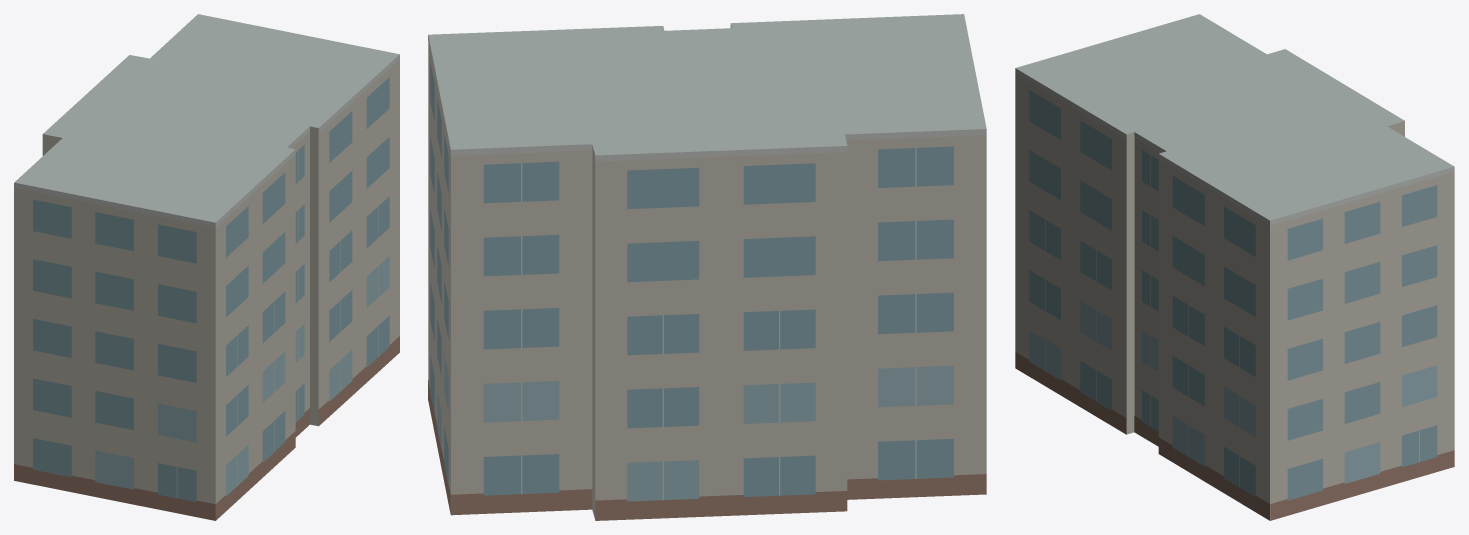
File: survey-upis-32686451.glb
3 renders of one model, left to right at view 1: azimuth 30°, elevation 25°; view 2: azimuth 150°, elevation 25°; view 3: azimuth 270°, elevation 25°, orthographic. The views are drawn at different scales.
Visible parts, largest first — view 1: survey-upis-32686451.tmp; view 2: survey-upis-32686451.tmp; view 3: survey-upis-32686451.tmp.
Part boxes in pixels (x1,y1,x2,y2): survey-upis-32686451.tmp: (14, 14, 399, 520); survey-upis-32686451.tmp: (428, 14, 986, 520); survey-upis-32686451.tmp: (1015, 14, 1454, 520).
Bounding box in the file's own units: 21.55 × 14.59 × 19.36.
